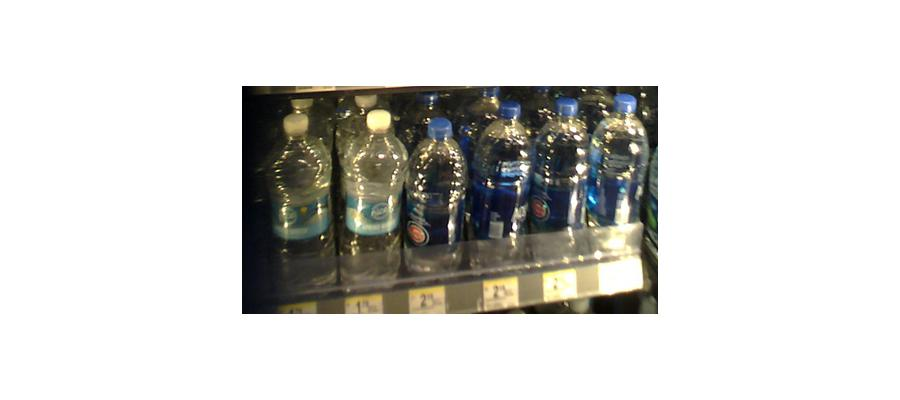bottle: (264, 104, 334, 299), (337, 106, 406, 292), (471, 96, 531, 269), (531, 95, 590, 265), (590, 91, 648, 262), (407, 116, 466, 278)
